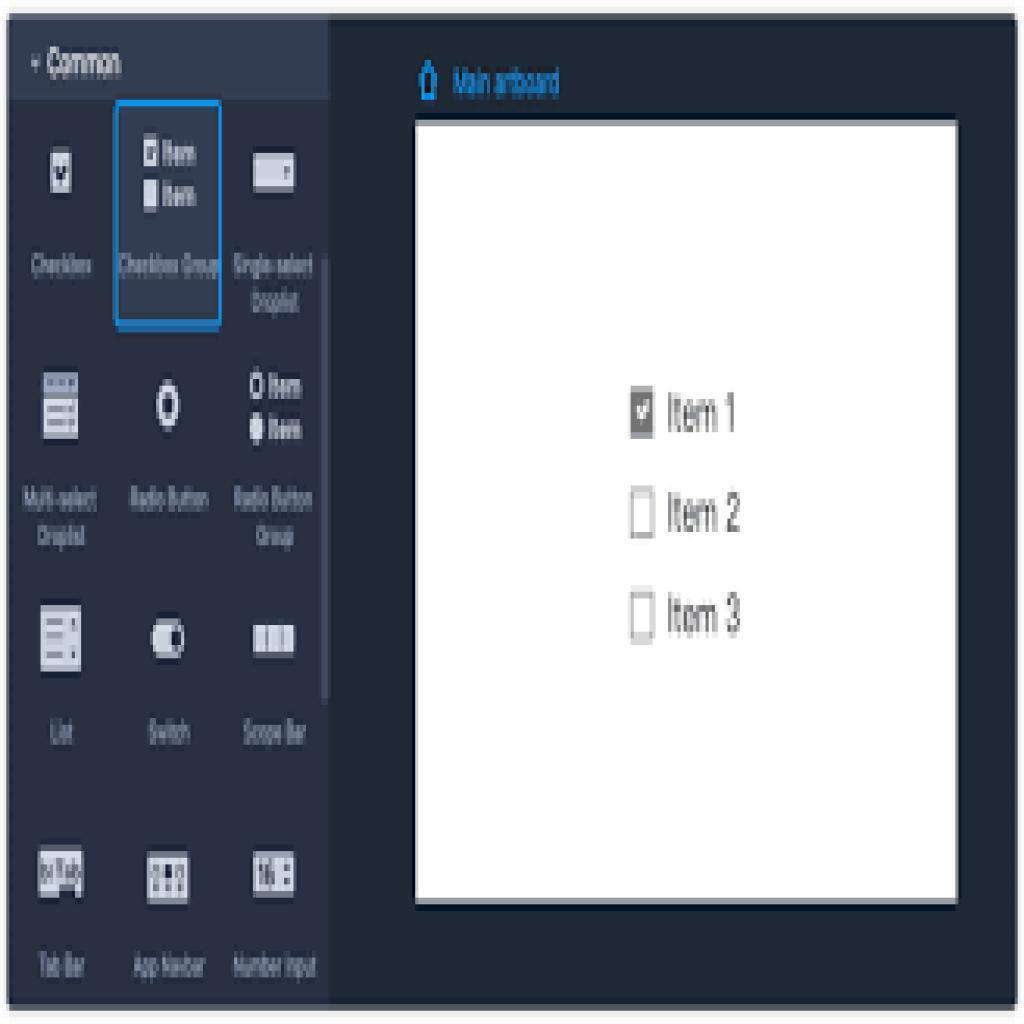checkbox: (626, 484, 661, 547), (627, 381, 657, 448), (47, 142, 80, 202), (629, 587, 658, 649)
icon: (140, 130, 202, 217), (30, 840, 94, 905), (40, 362, 87, 450), (140, 850, 200, 916), (38, 604, 86, 679), (251, 845, 304, 904), (250, 618, 305, 666), (247, 150, 302, 197)
radio: (155, 358, 188, 444), (246, 403, 266, 449), (248, 361, 266, 406)
switch: (144, 607, 198, 666)
